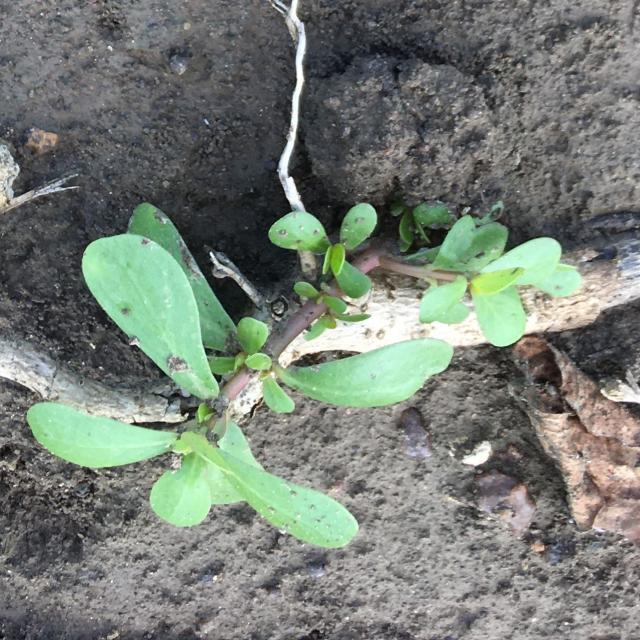Purslane: (27, 202, 582, 550)
